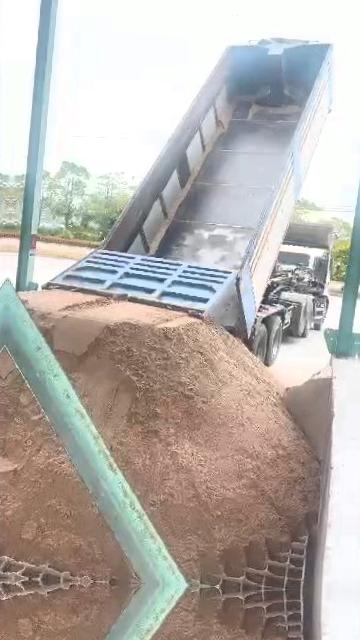sand: (24, 291, 317, 577), (0, 357, 129, 578), (285, 367, 331, 462)
